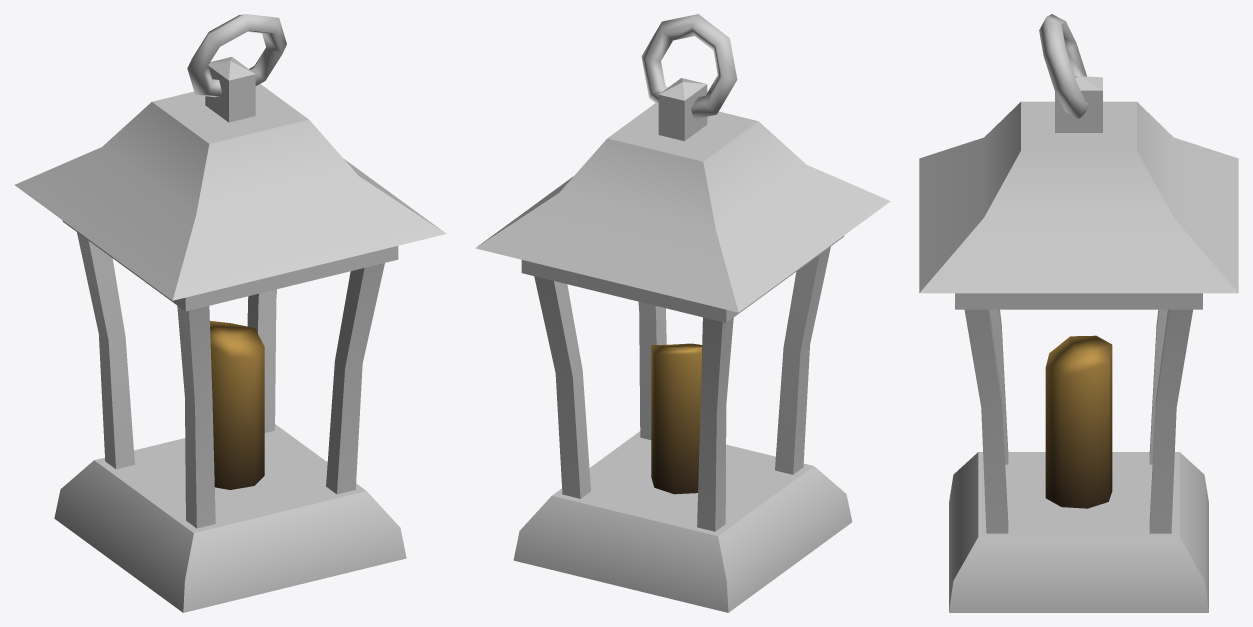
The model's file is SM_Lantern_03_C.fbx.
3 views of the same model, side by side, from view 1: azimuth 30°, elevation 25°; view 2: azimuth 150°, elevation 25°; view 3: azimuth 270°, elevation 25° (orthographic). The views are drawn at different scales.
Parts seen in each view (by area): view 1: SM_Lantern_03_C_Mesh; view 2: SM_Lantern_03_C_Mesh; view 3: SM_Lantern_03_C_Mesh.
Boxes of the visible parts, x1,y1,x2,y2 form: SM_Lantern_03_C_Mesh: [15, 14, 446, 612]; SM_Lantern_03_C_Mesh: [475, 14, 890, 612]; SM_Lantern_03_C_Mesh: [919, 14, 1238, 612].
Size of what is drawn, in the model's own units: 21.64 by 40.47 by 21.64.
